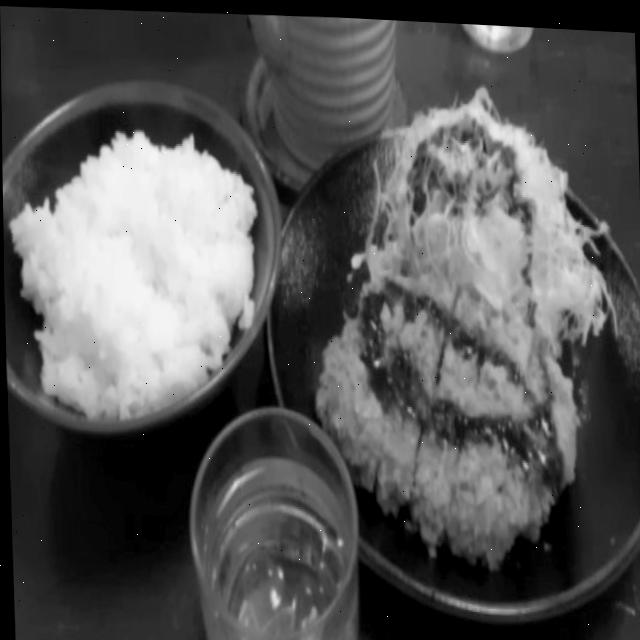米饭主食: (5, 62, 323, 424)
